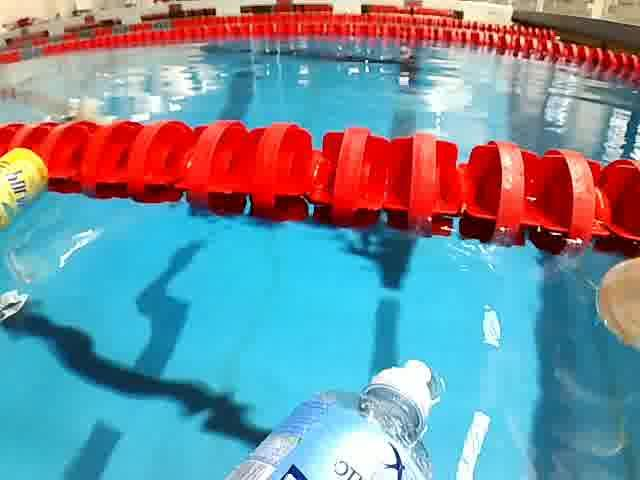Bottle: (213, 354, 460, 480)
Can: (0, 141, 58, 228)
